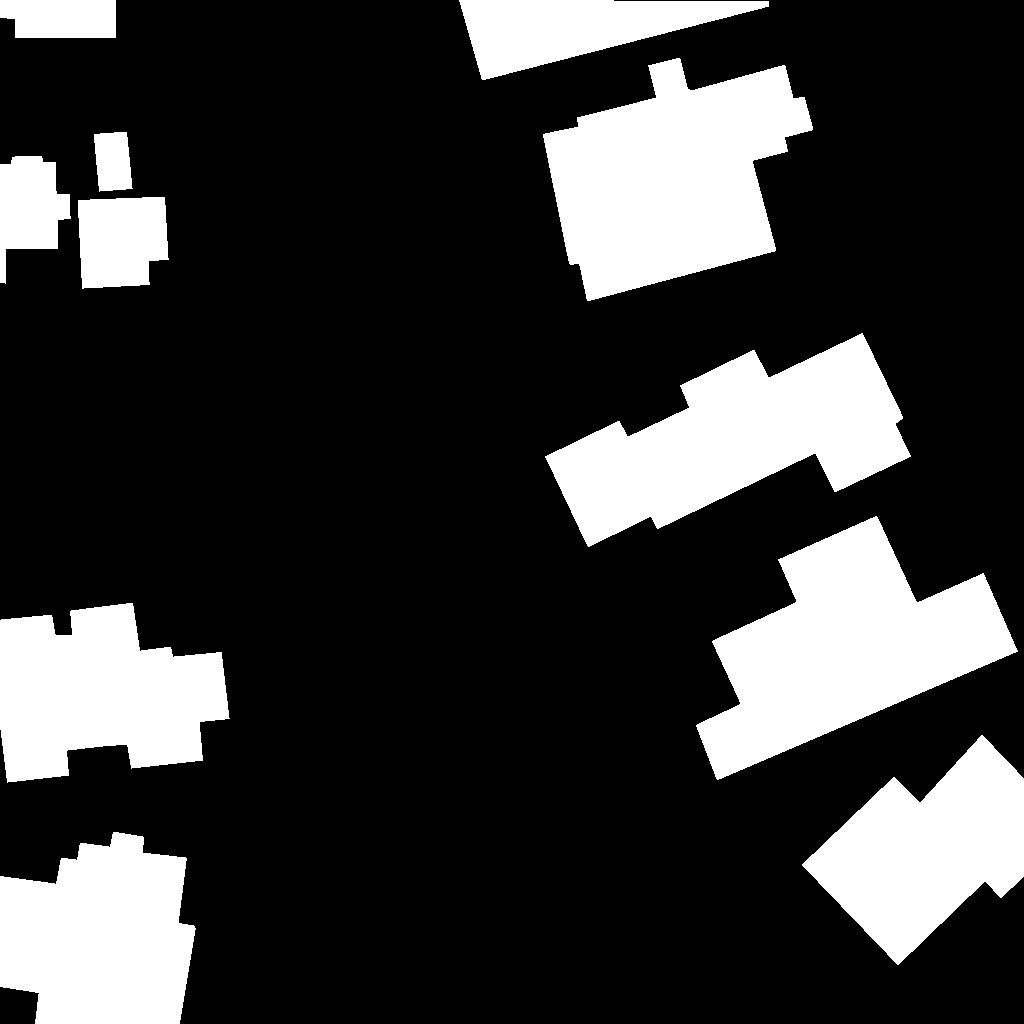building: (696, 516, 1019, 781), (545, 333, 912, 548), (543, 58, 814, 302), (802, 735, 1024, 966), (0, 603, 230, 783), (0, 832, 196, 1024), (459, 0, 770, 81), (0, 156, 71, 284), (78, 197, 169, 289), (0, 0, 117, 38), (94, 132, 133, 192)
